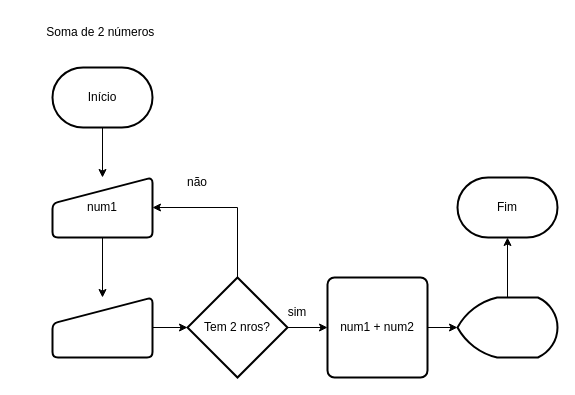
Some shapes in this 575 by 395 pixel diagram are drawn without their labels. The shapes that lost their labels are listed below. From the top down, each one's centre as x and y in pixels, then its label:
At point 102,327: "num2".
At point 507,327: "Resultado".
